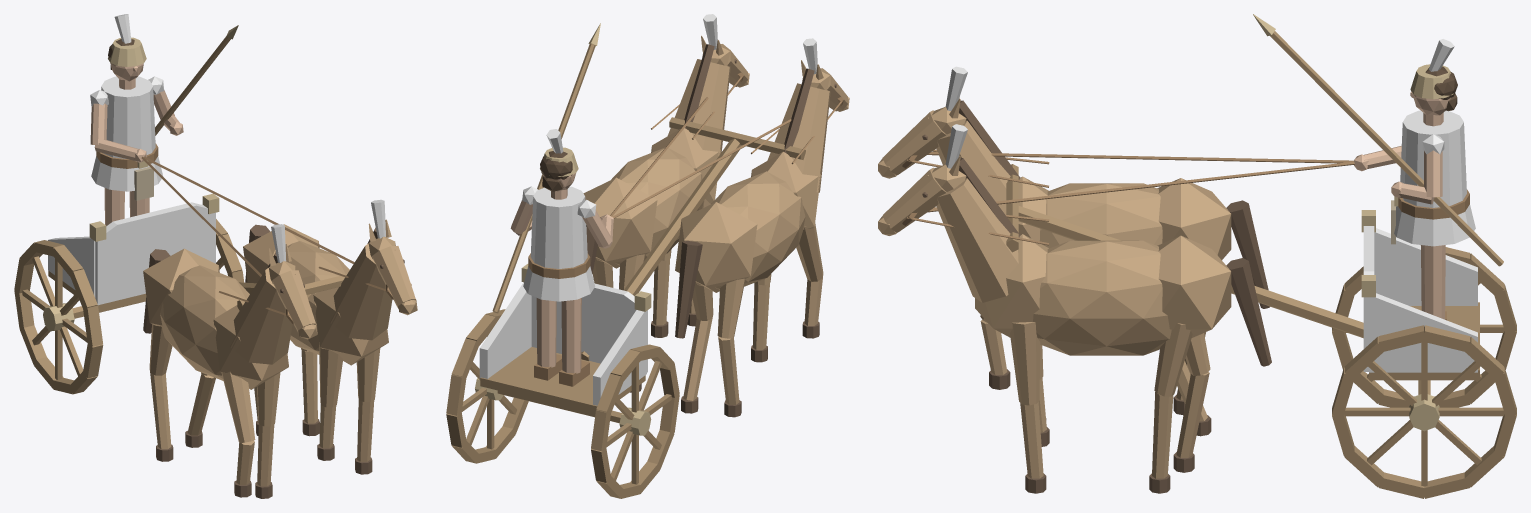
The model's file is civ_unit_chariot.glb.
3 views of the same model, side by side, from view 1: azimuth 30°, elevation 25°; view 2: azimuth 150°, elevation 25°; view 3: azimuth 270°, elevation 25° (orthographic). The views are drawn at different scales.
Visible parts, largest first — view 1: civ_unit_chariot; view 2: civ_unit_chariot; view 3: civ_unit_chariot.
Part boxes in pixels (x1,y1,x2,y2): civ_unit_chariot: (14, 14, 417, 498); civ_unit_chariot: (446, 14, 849, 498); civ_unit_chariot: (878, 14, 1516, 498).
Size of the model in its own units: 1.3 by 2.84 by 3.57.
